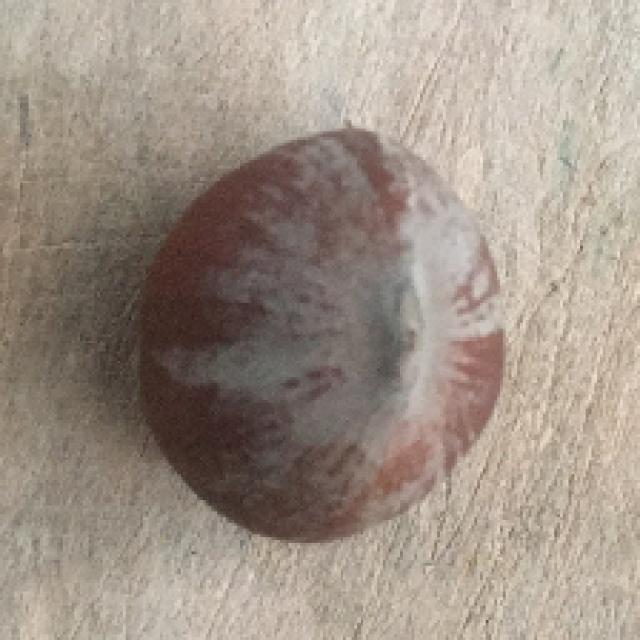qualityHazelnut: (139, 122, 510, 538)
